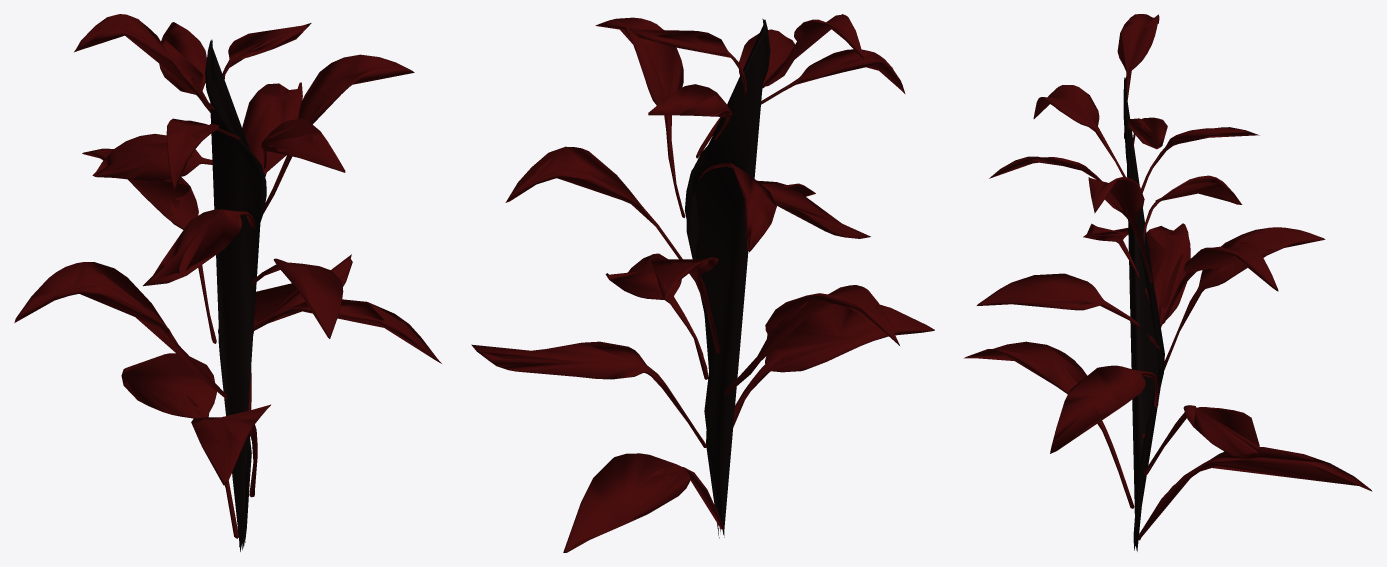
File: coleus.obj
3 renders of one model, left to right at view 1: azimuth 30°, elevation 25°; view 2: azimuth 150°, elevation 25°; view 3: azimuth 270°, elevation 25°, orthographic. The views are drawn at different scales.
Parts seen in each view (by area): view 1: coleus.stem_stem.002_Circle.005; view 2: coleus.stem_stem.002_Circle.005; view 3: coleus.stem_stem.002_Circle.005.
Part boxes in pixels (x1=…): coleus.stem_stem.002_Circle.005: x1=14, y1=14, x2=441, y2=551; coleus.stem_stem.002_Circle.005: x1=471, y1=14, x2=934, y2=552; coleus.stem_stem.002_Circle.005: x1=964, y1=14, x2=1372, y2=551.
Bounding box in the file's own units: 4.75 × 6.57 × 5.01.
